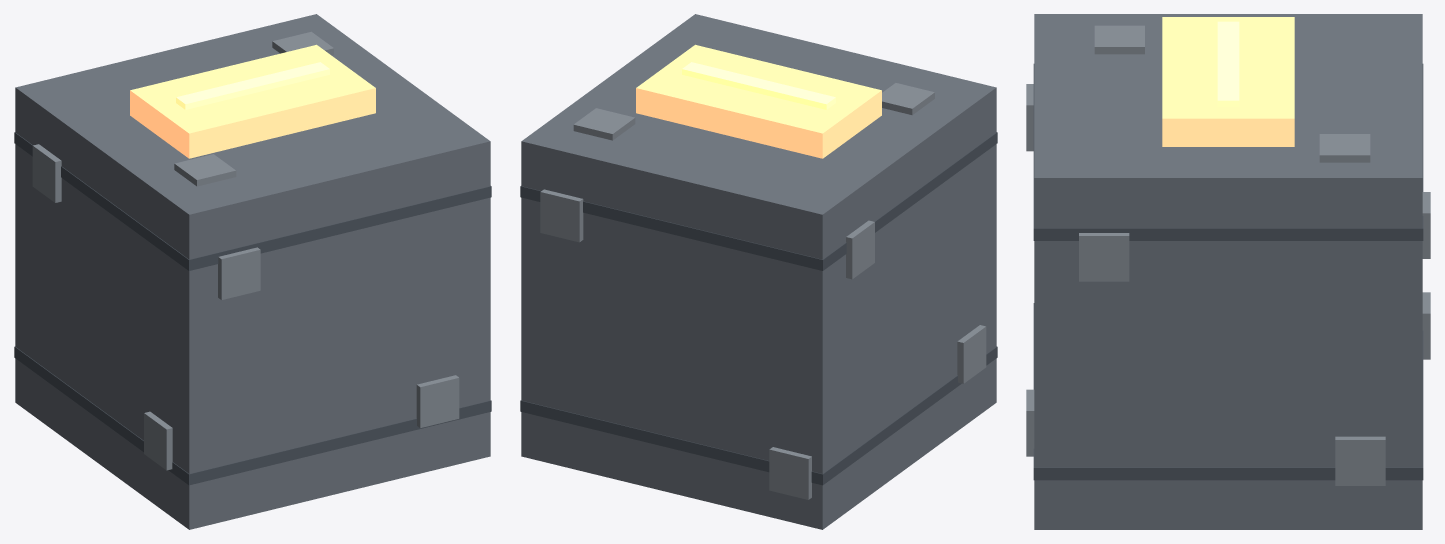
File: core_ingot_ore_block.glb
The picture shows the model from 3 angles, left to right: view 1: azimuth 30°, elevation 25°; view 2: azimuth 150°, elevation 25°; view 3: azimuth 270°, elevation 25°; orthographic projection. The views are drawn at different scales.
Visible parts, largest first — view 1: dark_stone_core, core_ingot_top, dark_seam_1, dark_seam, core_ingot_glow, stone_chip_1, stone_chip, stone_chip_6, stone_chip_7, stone_chip_8, stone_chip_9; view 2: dark_stone_core, core_ingot_top, dark_seam, dark_seam_1, core_ingot_glow, stone_chip_3, stone_chip_2, stone_chip_7, stone_chip_6, stone_chip_9, stone_chip_8; view 3: dark_stone_core, core_ingot_top, dark_seam_1, dark_seam, stone_chip_5, stone_chip_4, core_ingot_glow, stone_chip_8, stone_chip_9, stone_chip_1, stone_chip_2, stone_chip_3 (+1 smaller).
Boxes of the visible parts, x1,y1,x2,y2 form: dark_stone_core: (15,14,490,529); core_ingot_top: (130,44,375,158); dark_seam_1: (14,132,491,270); dark_seam: (14,346,491,485); core_ingot_glow: (176,62,329,109); stone_chip_1: (416,375,459,427); stone_chip: (218,247,260,300); stone_chip_6: (32,144,61,202); stone_chip_7: (144,411,172,470); stone_chip_8: (174,154,236,186); stone_chip_9: (272,31,333,55); dark_stone_core: (521,14,996,529); core_ingot_top: (636,44,881,158); dark_seam: (520,346,997,485); dark_seam_1: (520,132,997,270); core_ingot_glow: (682,62,835,109); stone_chip_3: (540,189,583,242); stone_chip_2: (769,447,811,499); stone_chip_7: (957,325,986,383); stone_chip_6: (846,220,874,279); stone_chip_9: (573,108,635,140); stone_chip_8: (882,83,934,115); dark_stone_core: (1034,14,1422,529); core_ingot_top: (1162,17,1294,146); dark_seam_1: (1033,64,1423,240); dark_seam: (1033,303,1423,480); stone_chip_5: (1335,436,1385,485); stone_chip_4: (1079,233,1129,281); core_ingot_glow: (1217,21,1239,106); stone_chip_8: (1094,25,1144,54); stone_chip_9: (1319,134,1370,162); stone_chip_1: (1026,389,1034,456); stone_chip_2: (1422,292,1430,359); stone_chip_3: (1422,192,1430,258).
Bounding box in the file's own units: 1.04 × 1.12 × 1.04.
